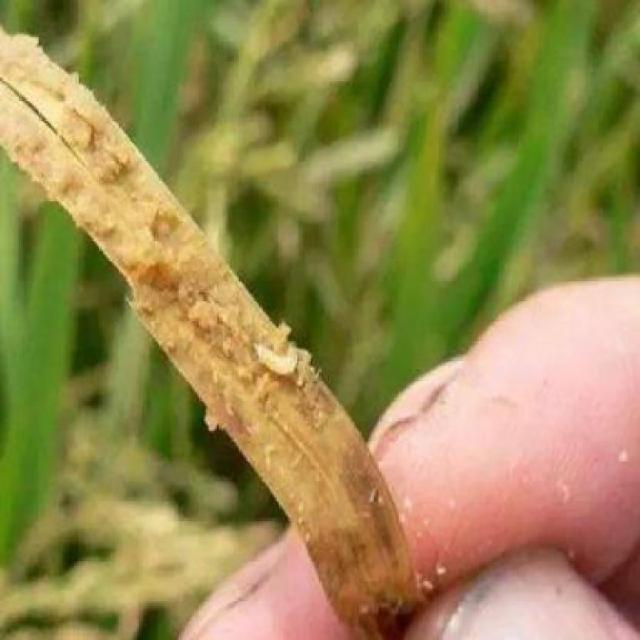whorl-maggot: (248, 336, 298, 374)
